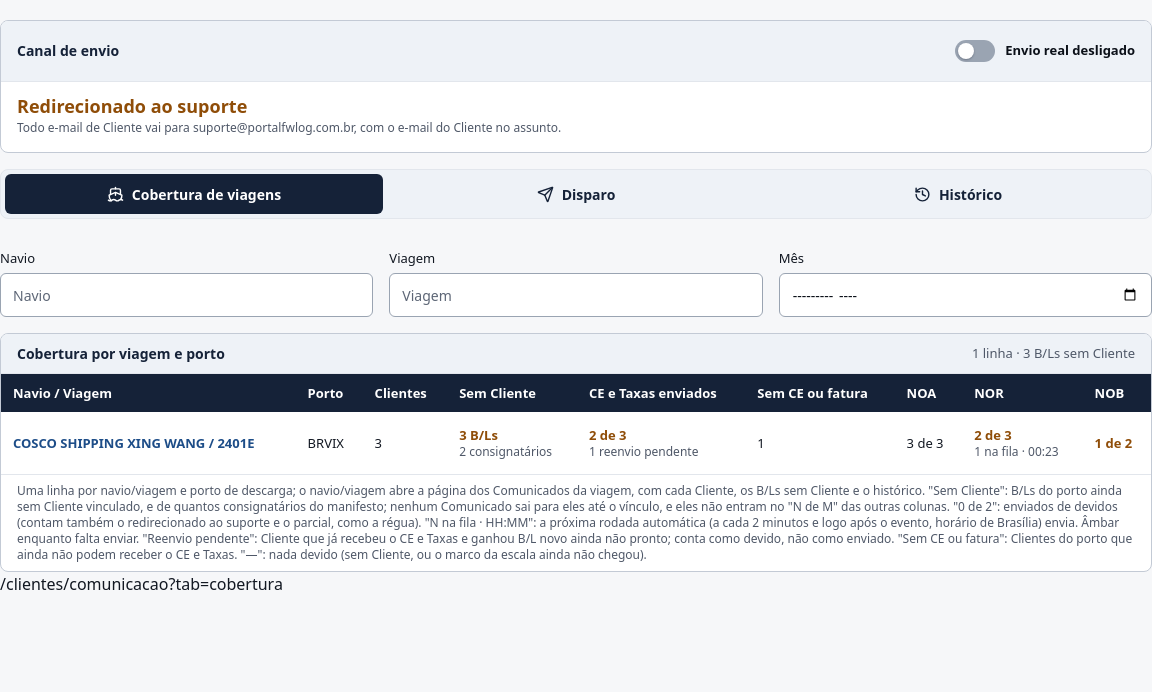
Página ClientesComunicacao (UI e fluxos) › o navio/viagem abre a página da viagem, com cada Cliente do porto e a situação de cada Comunicado
Expected: the text "1 na fila · 00:23" is shown, x1=974 y1=444 x2=1059 y2=460
Click the link "COSCO SHIPPING XING WANG / 2401E" at {"x": 109, "y": 443}, box x1=13 y1=434 x2=254 y2=452
(page scrolled)
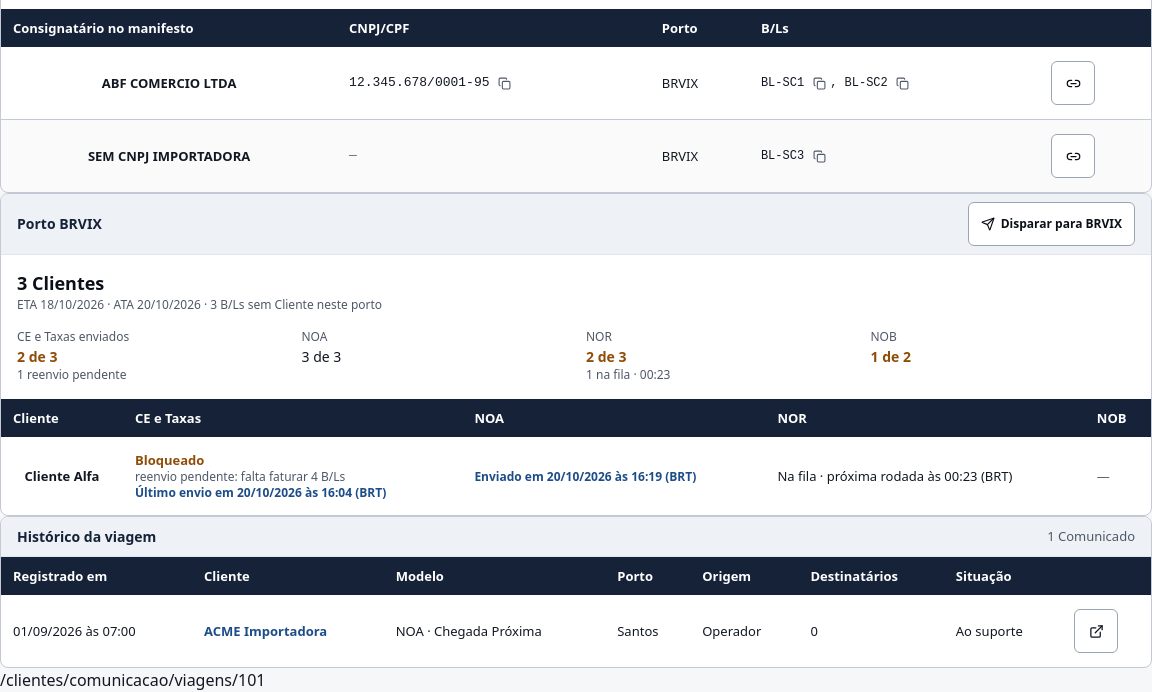
Now the text named "Endereço" reads "/clientes/comunicacao/viagens/101", box x1=0 y1=669 x2=266 y2=691
Now the heading "Porto BRVIX" is shown, box x1=17 y1=214 x2=102 y2=234
Now the text "Bloqueado" is shown, box x1=135 y1=451 x2=204 y2=469
